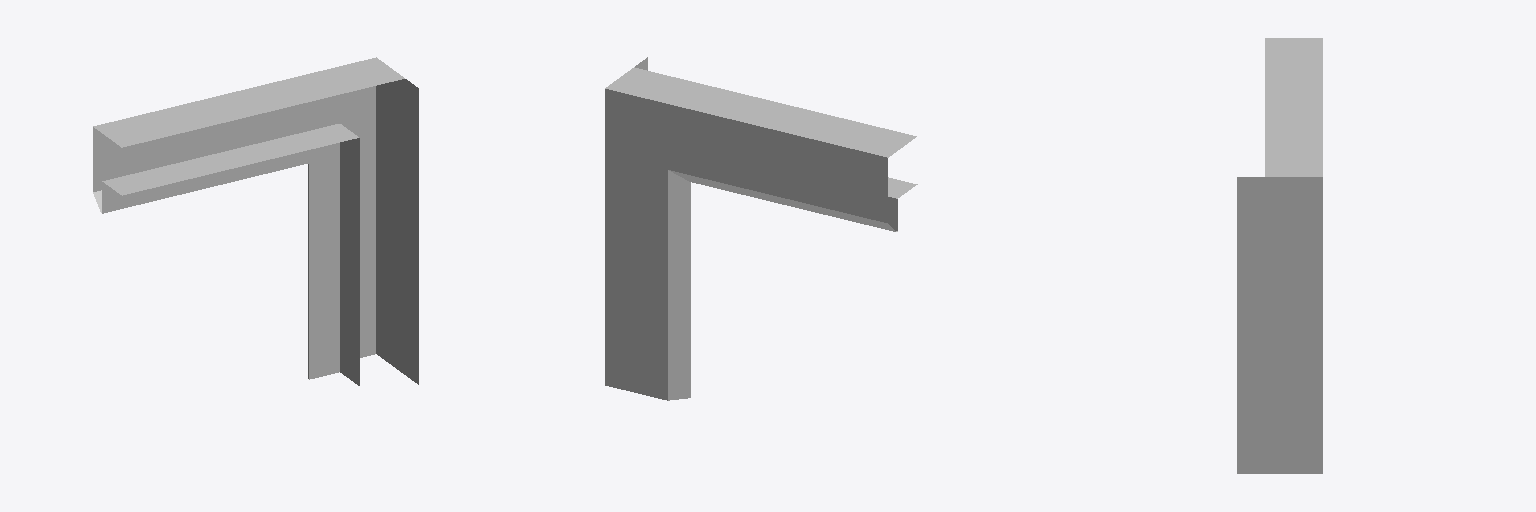
Rendered from original-113.obj.
3 views of the same model, side by side, from view 1: azimuth 30°, elevation 25°; view 2: azimuth 150°, elevation 25°; view 3: azimuth 270°, elevation 25° (orthographic).
Visible parts, largest first — view 1: #ID704; view 2: #ID704; view 3: #ID704.
Part boxes in pixels (left/top/right/bottom): #ID704: left=93, top=57, right=418, bottom=385; #ID704: left=605, top=57, right=917, bottom=400; #ID704: left=1237, top=38, right=1322, bottom=473.
Size of the model in its own units: 0.1274 by 0.1274 by 0.0332.